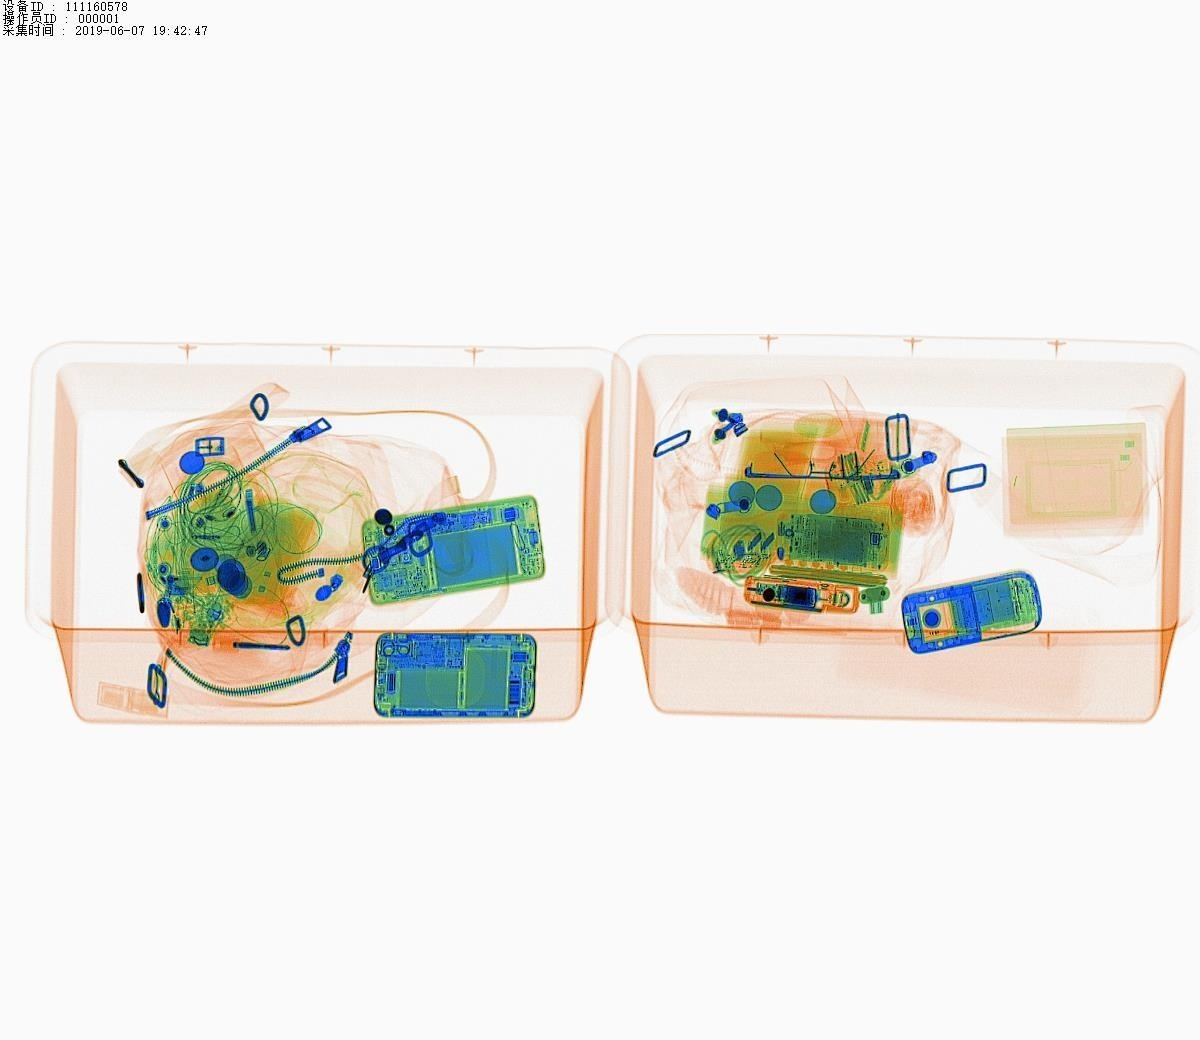NonmetallicFire: (144, 560, 254, 611)
